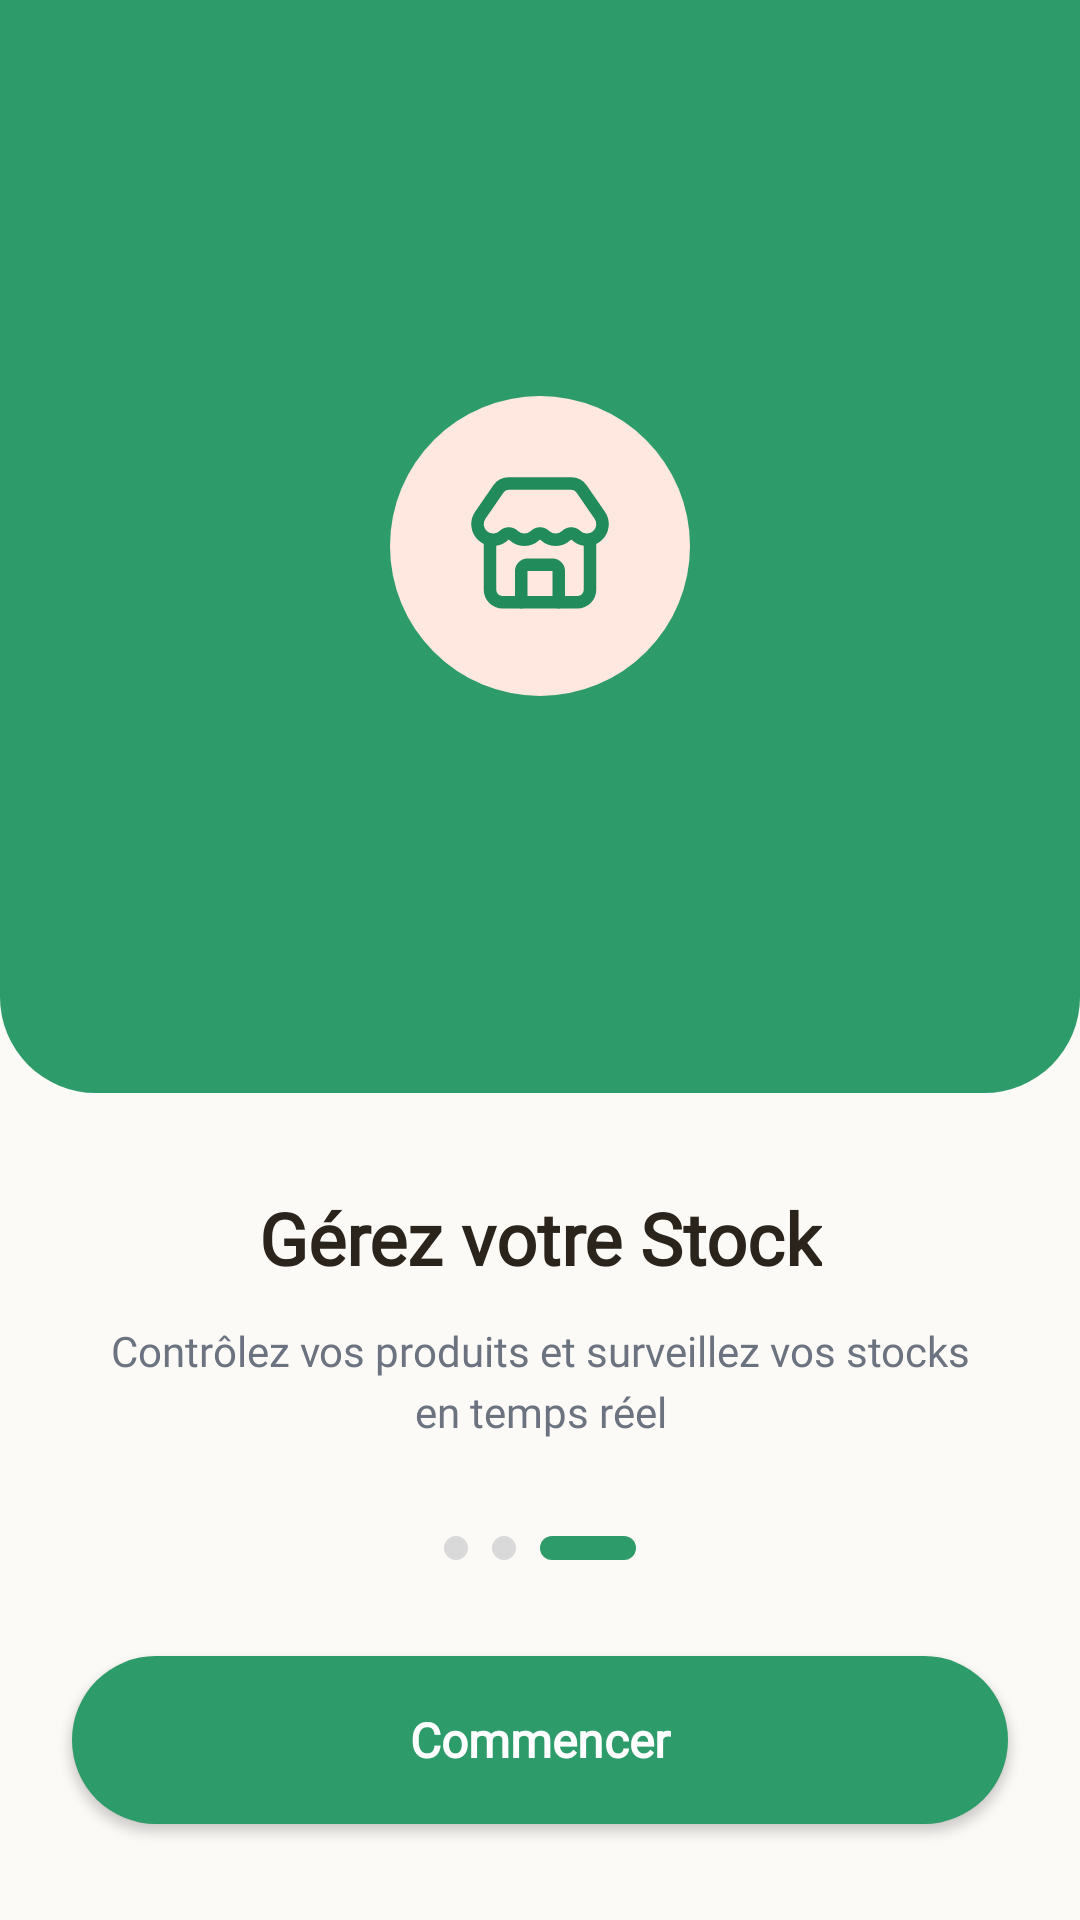

Named icons in this screenshot (1080px×1920px) and their bounding boxes, (x1, y1, x2, y2):
store: (471, 477, 609, 609)
